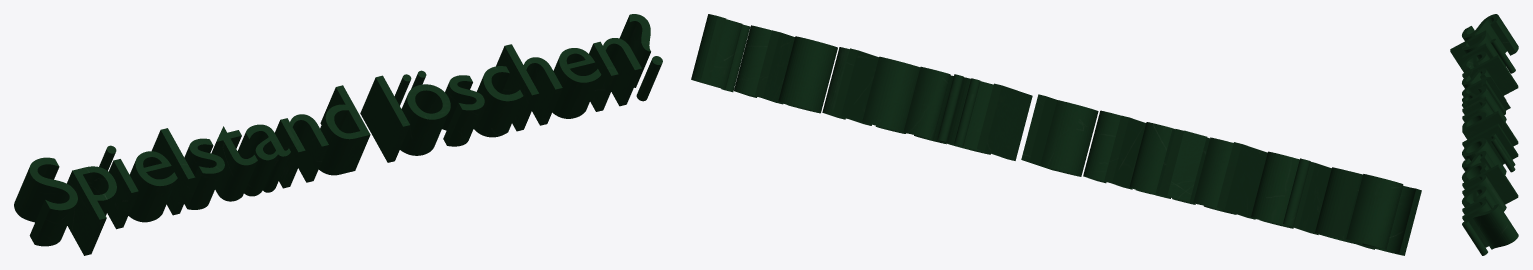
The model's file is MainMenu_DeleteSaveText.fbx.
3 renders of one model, left to right at view 1: azimuth 30°, elevation 25°; view 2: azimuth 150°, elevation 25°; view 3: azimuth 270°, elevation 25°, orthographic. The views are drawn at different scales.
Visible parts, largest first — view 1: Text.001; view 2: Text.001; view 3: Text.001.
Part boxes in pixels (<box>): Text.001: <box>14,14,662,255</box>; Text.001: <box>691,14,1421,255</box>; Text.001: <box>1450,14,1518,255</box>.
Size of the model in its own units: 17.7 by 2.38 by 2.6.
1 material, 1 textured.
